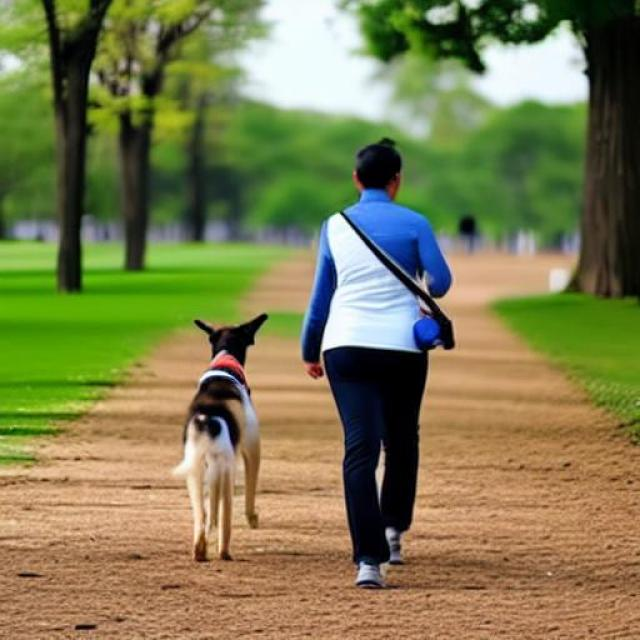Unleashed_Dog: (168, 312, 429, 564)
